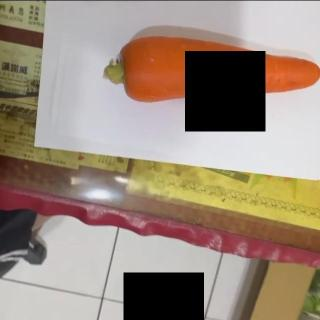carrot: (100, 33, 320, 103)
